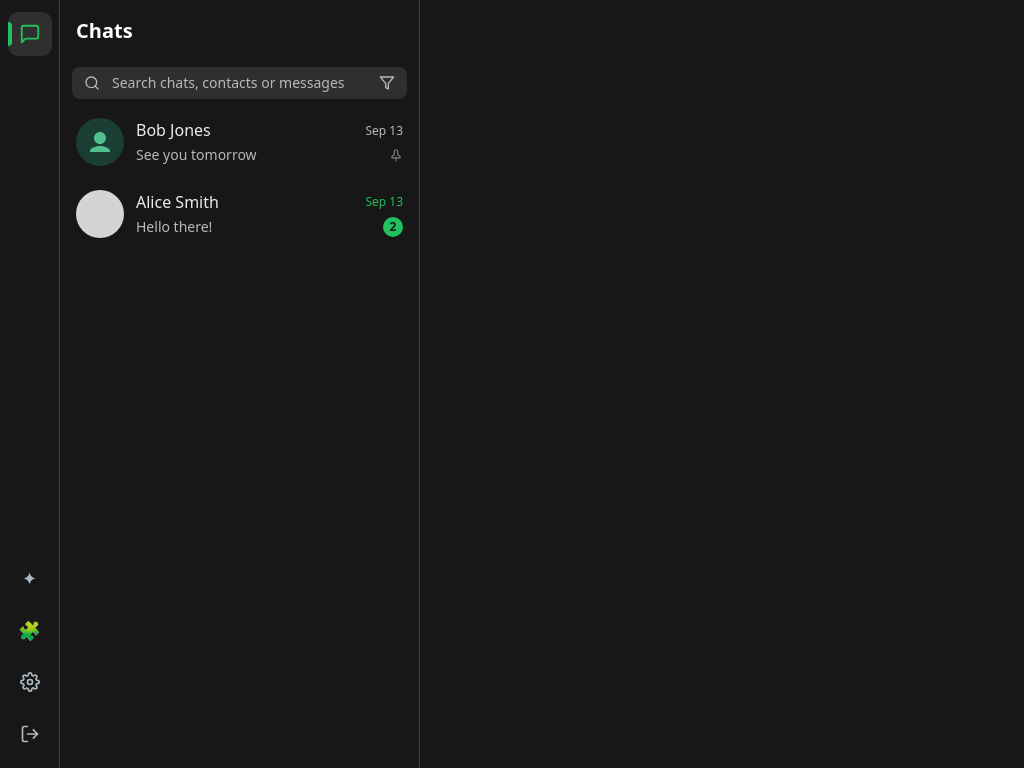
ChatList › opens settings modal when settings button is clicked
Step 1. Click the button titled "Settings" → (30, 682), box [8,660,52,704]
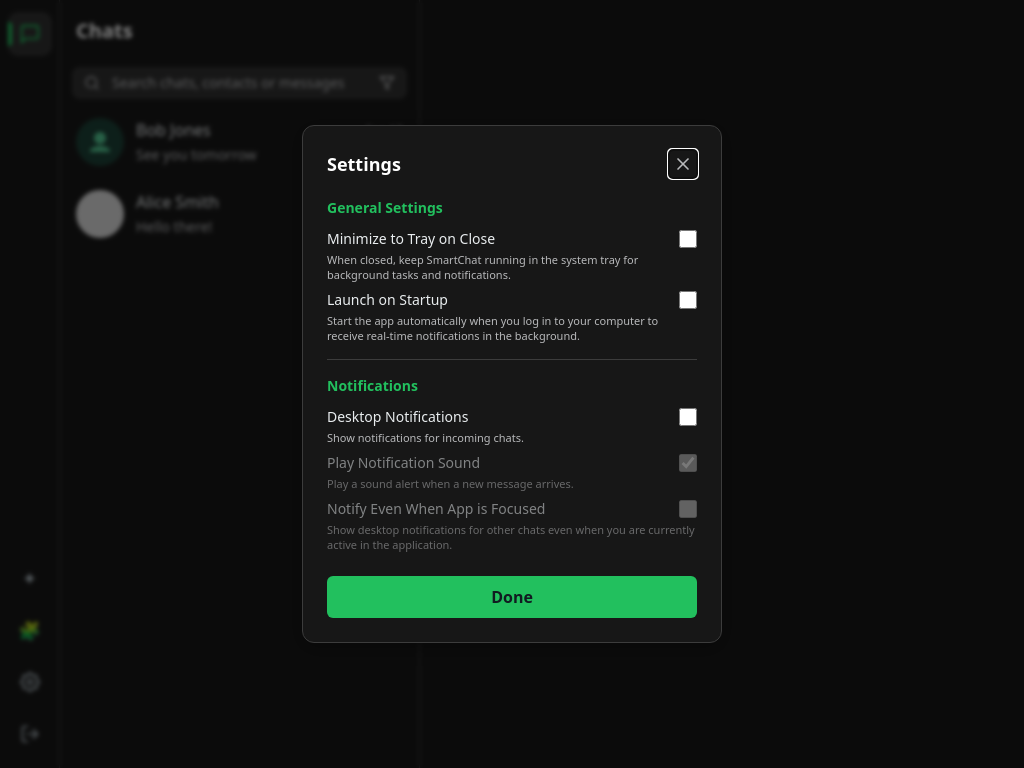
Expected: the heading "Settings" is shown, [327,152,401,176]
